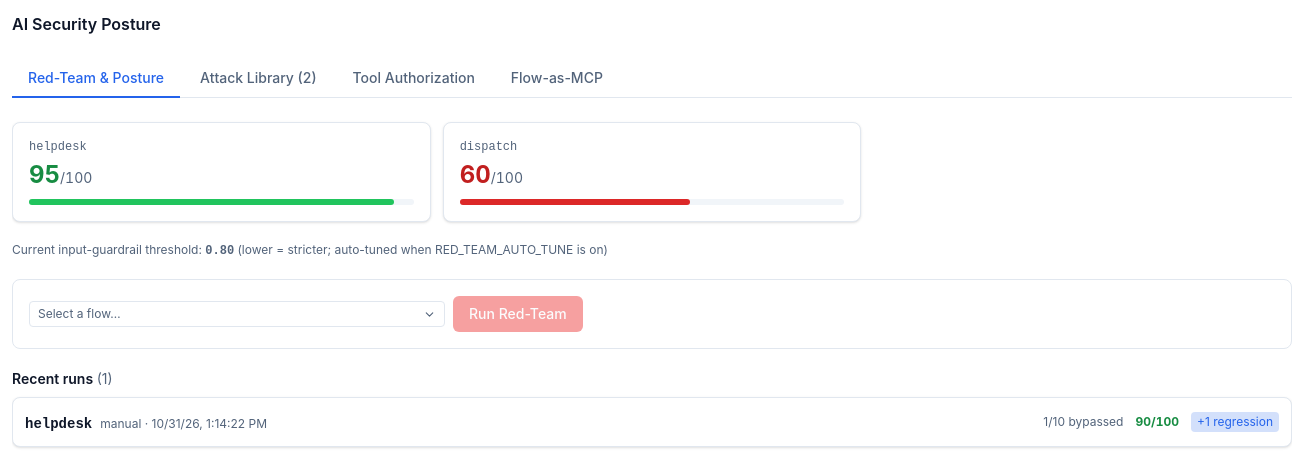
Test case: SecurityPanel — tool authorization › renders active policy rules
Click the button "Tool Authorization".
click(414, 79)  # box [337,60,491,98]
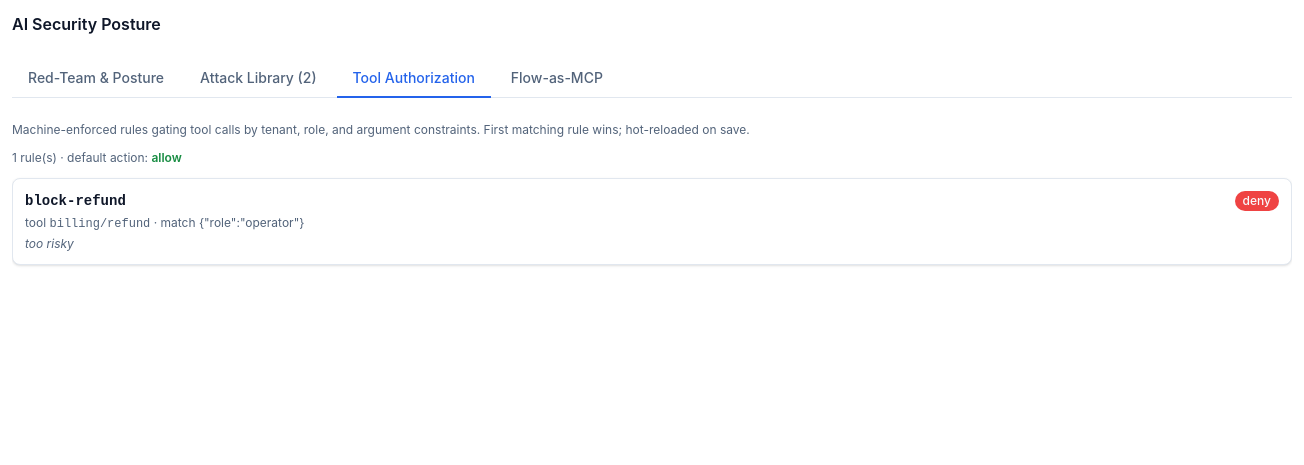
Check: the text "block-refund" is shown, box [25,191,126,211]
Check: the text "deny" is shown, box [1235,191,1279,211]
